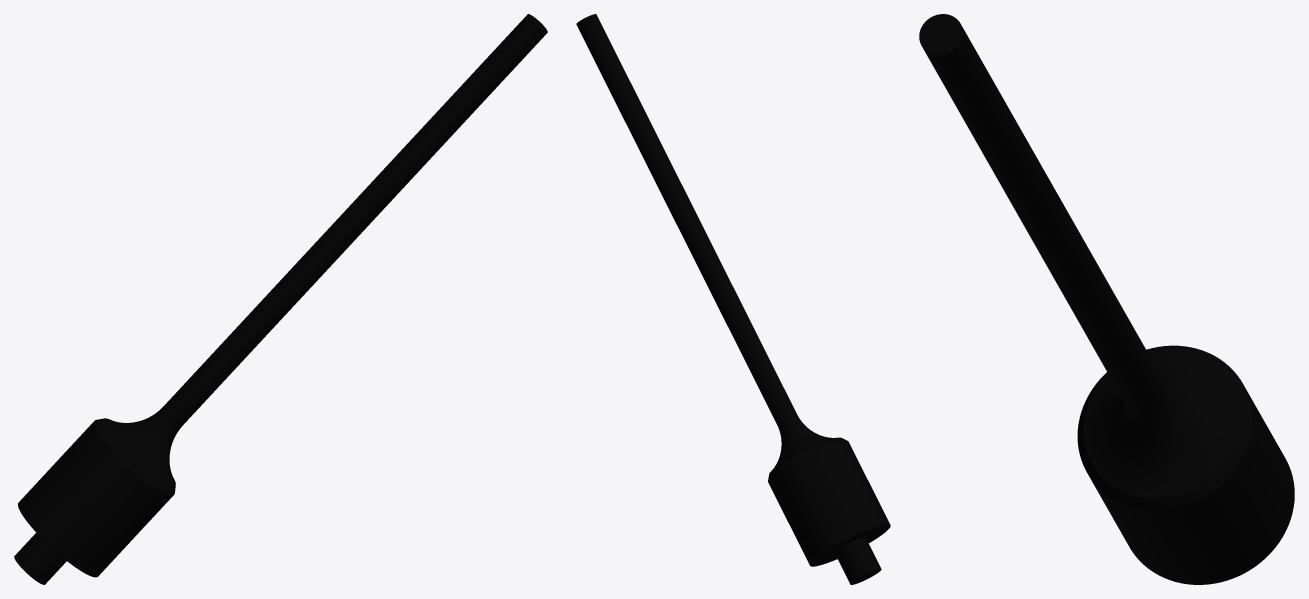
File: sonication probe.glb
3 views of the same model, side by side, from view 1: azimuth 30°, elevation 25°; view 2: azimuth 150°, elevation 25°; view 3: azimuth 270°, elevation 25° (orthographic). The views are drawn at different scales.
Visible parts, largest first — view 1: node_id3; view 2: node_id3; view 3: node_id3.
Boxes of the visible parts, x1,y1,x2,y2 form: node_id3: (14, 14, 547, 584); node_id3: (576, 14, 890, 584); node_id3: (919, 14, 1294, 584).
Size of the model in its own units: 0.346 by 0.3916 by 0.153.
Materials: 1 (1 with a texture image).
